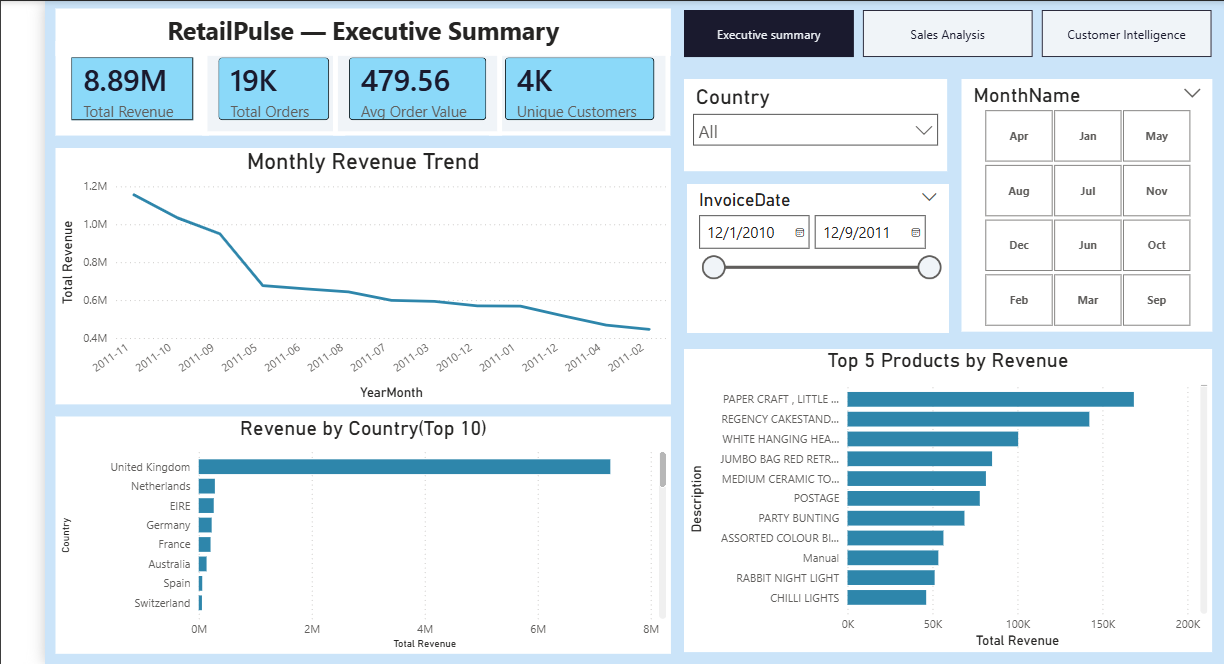

The page's visual inventory and layout, read from the dashboard file:
{"tool":"powerbi","page":{"name":"Executive summary","canvas":[1280,720],"ordinal":0},"visuals":[{"type":"cardVisual","fields":{"Data":["retailpulse retail_sales.Total Revenue"]},"box":[11.3,43.5,166.3,102],"z":0},{"type":"cardVisual","fields":{"Data":["retailpulse retail_sales.Total Orders"]},"box":[170.1,43.5,155,102],"z":1000},{"type":"cardVisual","fields":{"Data":["retailpulse retail_sales.Unique Customers"]},"box":[481.9,43.5,196.5,102],"z":2000},{"type":"cardVisual","fields":{"Data":["retailpulse retail_sales.Avg Order Value"]},"box":[311.8,43.5,183.3,102],"z":3000},{"type":"lineChart","title":"Monthly Revenue Trend","fields":{"Category":["retailpulse retail_sales.YearMonth"],"Y":["retailpulse retail_sales.Total Revenue"]},"box":[11.3,158.7,667.1,277.8],"z":4000},{"type":"clusteredBarChart","title":"Revenue by Country(Top 10)","fields":{"Category":["retailpulse retail_sales.Country"],"Y":["retailpulse retail_sales.Total Revenue"]},"box":[11.3,449.8,667.1,257],"z":5000},{"type":"clusteredBarChart","title":"Top 5 Products by Revenue","fields":{"Category":["retailpulse retail_sales.Description"],"Y":["retailpulse retail_sales.Total Revenue"]},"box":[693.5,378,572.6,328.8],"z":6000},{"type":"slicer","fields":{"Values":["retailpulse retail_sales.Country"]},"box":[693.5,85,285.4,100.2],"z":7000},{"type":"slicer","fields":{"Values":["retailpulse retail_sales.InvoiceDate"]},"box":[695.4,198.4,283.5,160.6],"z":8000},{"type":"slicer","fields":{"Values":["retailpulse retail_sales.MonthName"]},"box":[994,85,272.1,274],"z":9000},{"type":"textbox","box":[11.3,7.6,667.1,51],"z":10000},{"type":"pageNavigator","box":[693.5,9.4,572.6,51],"z":11000}]}

Visuals, with their boxes on the page's 1280x720 design canvas (x1, y1, x2, y2). These are canvas units, not pixel positions in the 1224x664 screenshot, which may show the page scaled, cropped or inside an application window:
cardVisual - retailpulse retail_sales.Total Revenue: 11 44 178 146
cardVisual - retailpulse retail_sales.Total Orders: 170 44 325 146
cardVisual - retailpulse retail_sales.Unique Customers: 482 44 678 146
cardVisual - retailpulse retail_sales.Avg Order Value: 312 44 495 146
"Monthly Revenue Trend" lineChart: 11 159 678 436
"Revenue by Country(Top 10)" clusteredBarChart: 11 450 678 707
"Top 5 Products by Revenue" clusteredBarChart: 694 378 1266 707
slicer - retailpulse retail_sales.Country: 694 85 979 185
slicer - retailpulse retail_sales.InvoiceDate: 695 198 979 359
slicer - retailpulse retail_sales.MonthName: 994 85 1266 359
textbox: 11 8 678 59
pageNavigator: 694 9 1266 60
